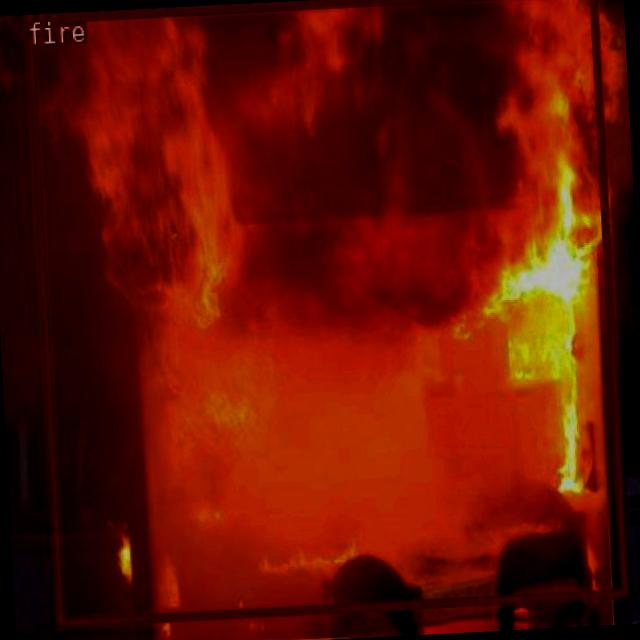fire: (24, 0, 626, 624)
